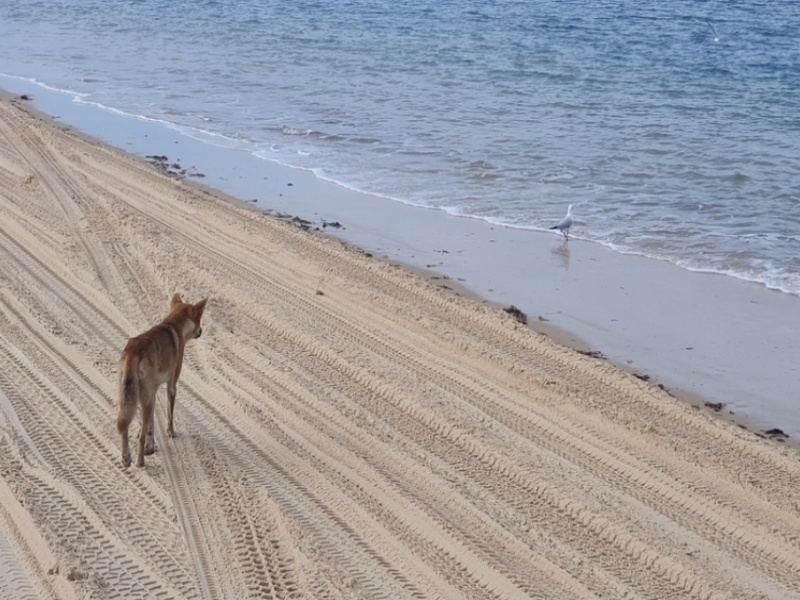dog: (114, 294, 209, 472)
